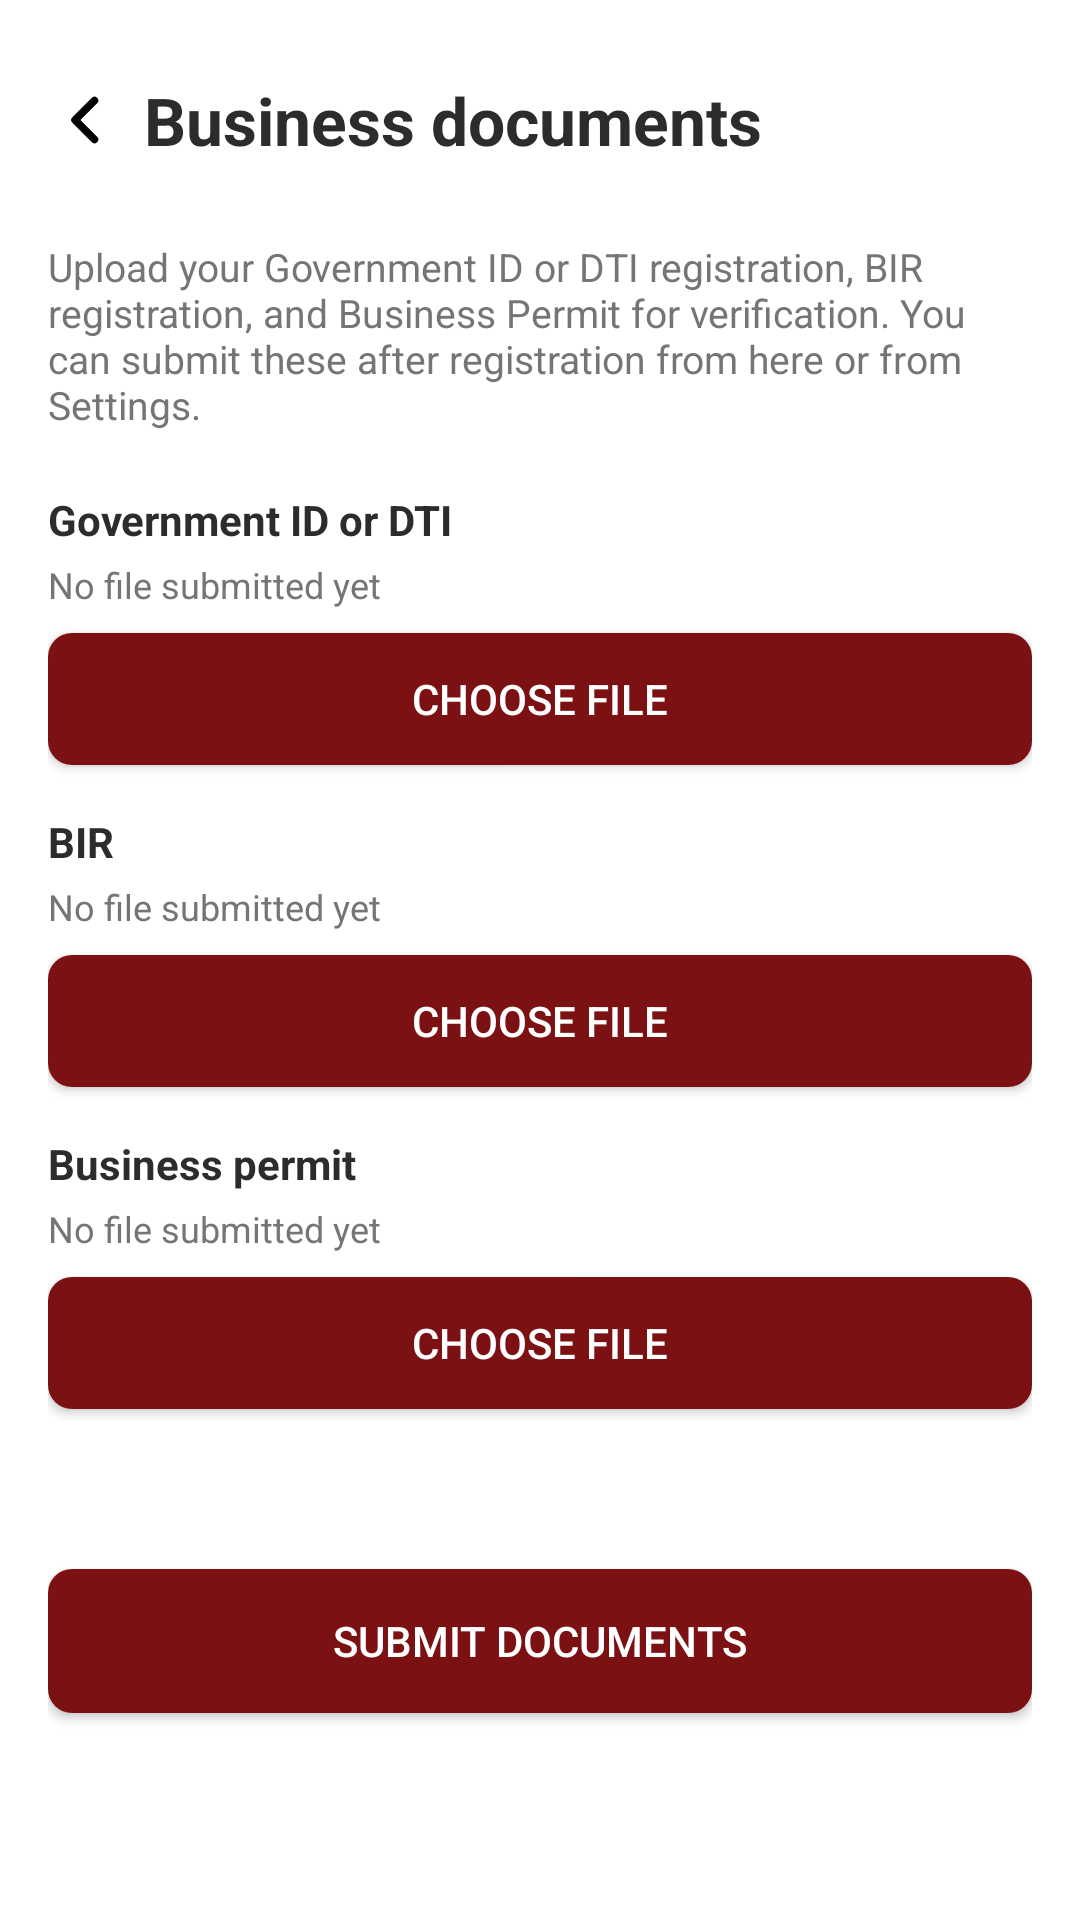

Named icons in this screenshot (1080px×1920px) and their centers, (x=x, y=y):
Back: (x=85, y=120)
